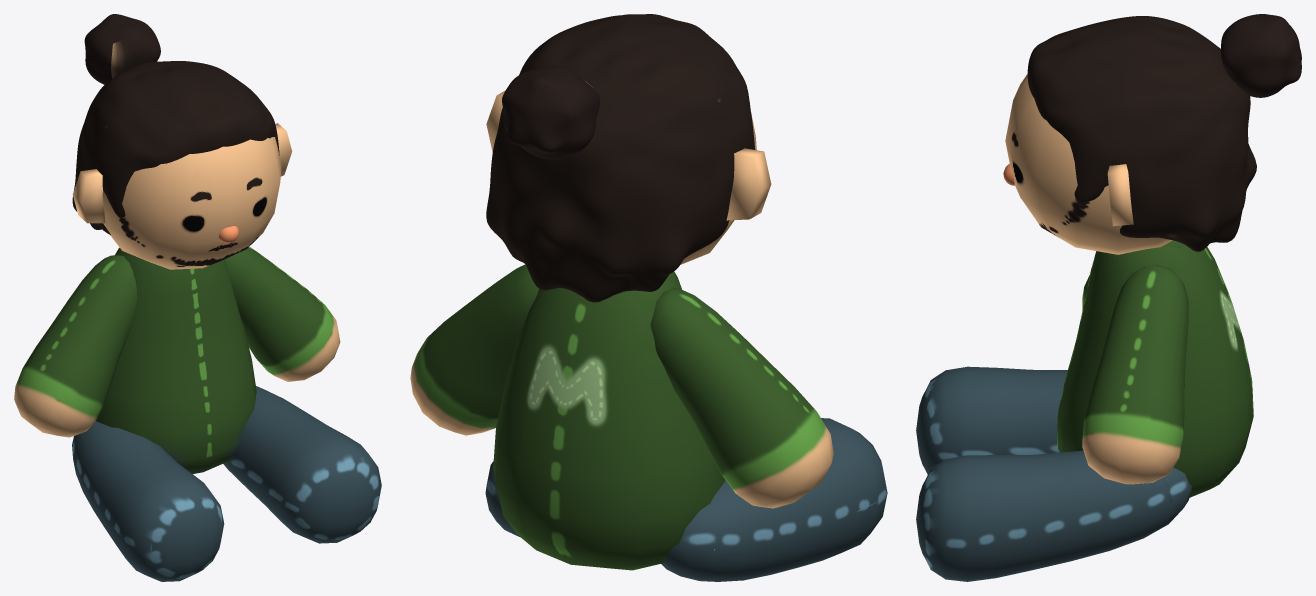
File: Martinez.fbx
3 renders of one model, left to right at view 1: azimuth 30°, elevation 25°; view 2: azimuth 150°, elevation 25°; view 3: azimuth 270°, elevation 25°, orthographic. The views are drawn at different scales.
Parts seen in each view (by area): view 1: Cube; view 2: Cube; view 3: Cube.
Boxes of the visible parts, <box> form: Cube: <box>14,14,381,581</box>; Cube: <box>410,14,887,581</box>; Cube: <box>916,14,1301,581</box>.
Bounding box in the file's own units: 83.34 × 90.49 × 122.
